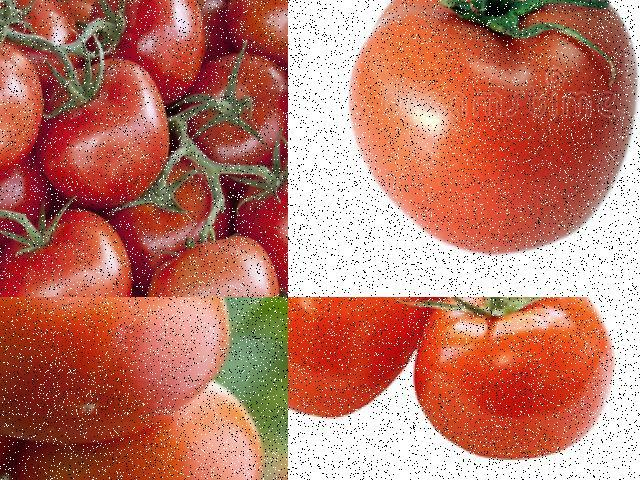tomato: (349, 0, 639, 268), (0, 297, 237, 452), (418, 297, 616, 461), (9, 389, 273, 479), (42, 59, 170, 210), (288, 297, 417, 441), (185, 55, 287, 191), (0, 209, 145, 296), (95, 0, 211, 103), (112, 159, 216, 263), (145, 237, 284, 296), (0, 33, 48, 178), (240, 147, 287, 293), (0, 0, 78, 67), (229, 0, 287, 73), (0, 168, 51, 221)
